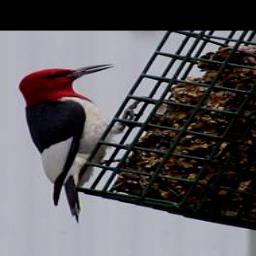Woodpecker: (16, 63, 140, 223)
